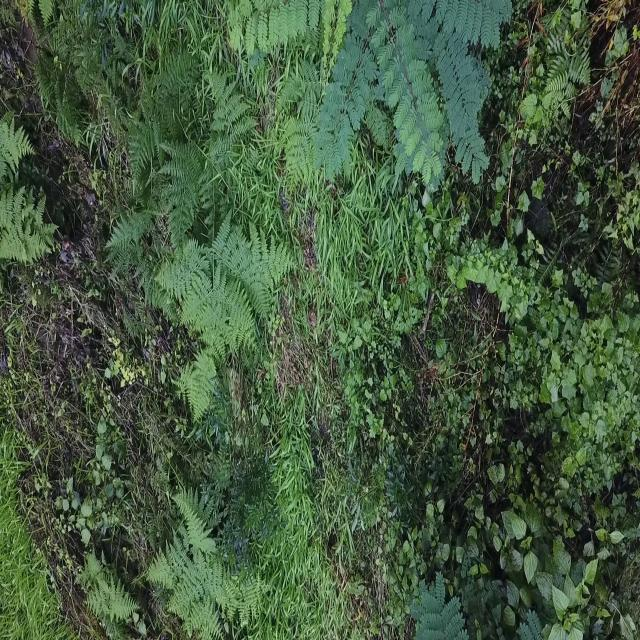Mysore-Thorn-Weed: (228, 0, 516, 181), (406, 579, 471, 640), (520, 604, 547, 640)
